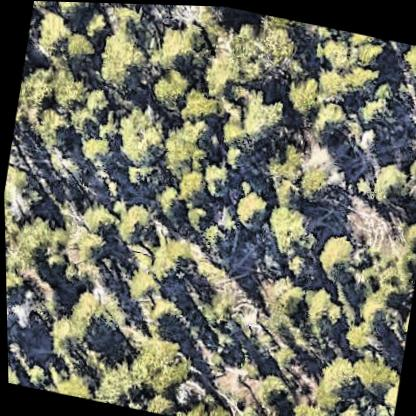tree-top: (119, 325, 194, 399), (228, 14, 300, 90), (334, 197, 413, 262), (85, 24, 150, 95), (256, 198, 322, 262), (109, 103, 169, 171), (355, 150, 415, 211), (231, 86, 288, 148), (154, 122, 213, 180), (300, 353, 355, 412), (307, 223, 360, 282), (257, 143, 312, 197), (350, 79, 402, 134), (149, 21, 203, 73), (4, 216, 50, 276), (293, 280, 343, 334), (261, 272, 310, 327), (86, 356, 137, 408), (144, 64, 195, 114), (27, 8, 75, 60), (117, 263, 167, 311), (109, 197, 157, 246), (279, 69, 325, 120), (64, 221, 111, 270), (3, 167, 39, 227), (338, 314, 385, 359), (30, 103, 75, 150), (196, 280, 241, 327), (310, 31, 359, 73), (229, 186, 271, 233), (45, 68, 87, 115), (175, 84, 222, 126), (15, 70, 54, 118), (41, 366, 96, 400), (69, 294, 108, 341), (251, 11, 315, 39), (250, 368, 292, 410), (348, 356, 389, 398), (75, 131, 116, 170), (195, 158, 233, 200), (312, 64, 352, 103), (173, 164, 210, 206), (77, 202, 117, 240), (77, 81, 115, 120), (45, 306, 81, 347), (197, 61, 235, 98), (61, 28, 98, 65), (148, 179, 183, 218), (66, 101, 102, 136), (314, 102, 352, 135), (350, 36, 386, 70), (299, 165, 331, 202), (267, 337, 300, 372), (165, 4, 211, 29), (112, 3, 149, 33), (52, 1, 98, 25), (78, 8, 111, 41), (372, 278, 400, 313), (393, 39, 416, 81), (180, 201, 209, 233), (146, 294, 175, 326), (284, 394, 326, 416), (5, 299, 33, 332), (351, 260, 381, 290), (212, 118, 243, 147), (388, 304, 409, 346), (375, 376, 397, 416), (377, 264, 408, 292), (42, 224, 69, 256), (5, 268, 27, 305), (21, 358, 49, 387), (60, 257, 89, 285), (141, 392, 175, 415), (33, 1, 75, 19), (161, 237, 188, 265), (188, 397, 226, 416), (210, 326, 236, 352), (354, 122, 376, 151), (329, 398, 364, 416), (122, 163, 145, 187), (6, 360, 22, 384), (226, 408, 270, 416), (32, 1, 60, 13), (407, 148, 416, 185), (409, 79, 416, 122), (408, 123, 416, 155), (108, 3, 147, 8)
